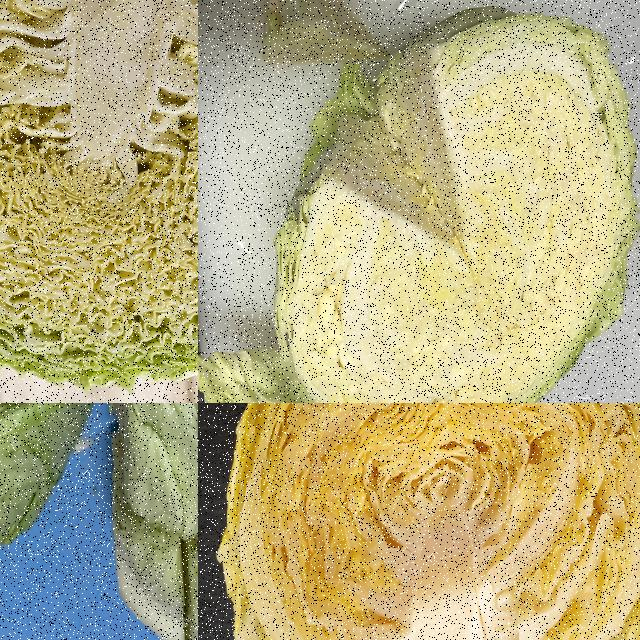cabbage: (270, 11, 639, 402), (214, 403, 639, 639), (0, 0, 197, 397), (105, 403, 197, 639), (0, 403, 104, 604)
